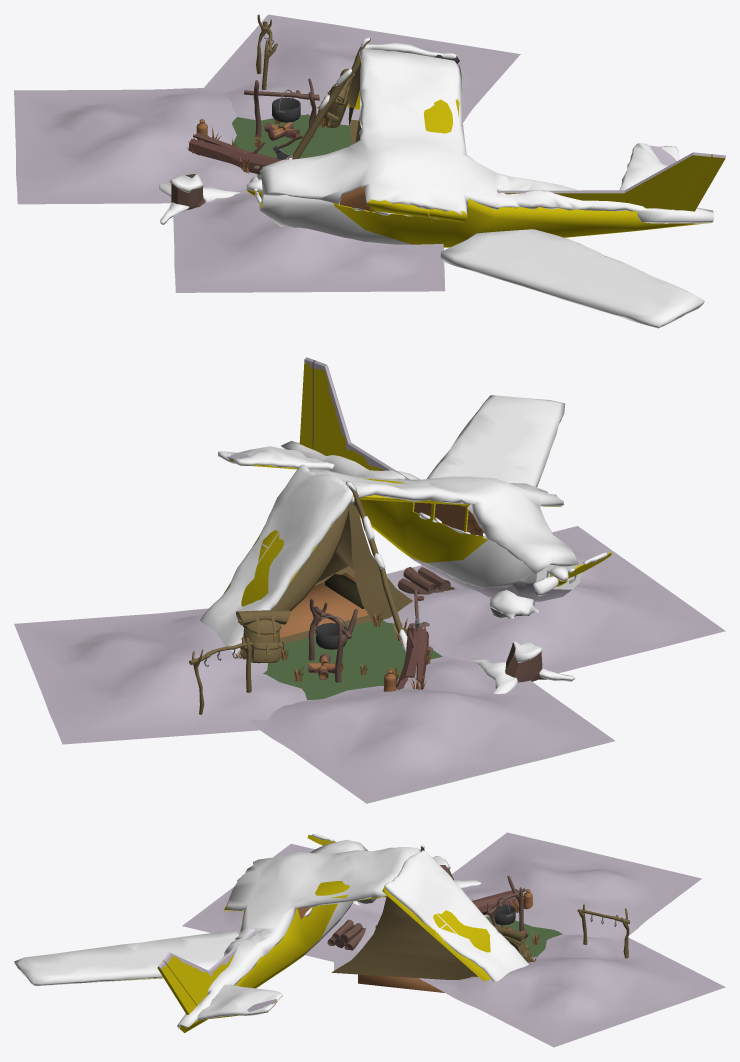
The model's file is new main scene.fbx.
The picture shows the model from 3 angles, top to bottom: view 1: azimuth 30°, elevation 25°; view 2: azimuth 150°, elevation 25°; view 3: azimuth 270°, elevation 25°; orthographic projection. The views are drawn at different scales.
Visible parts, largest first — view 1: LowPoly Tree .003; view 2: LowPoly Tree .003; view 3: LowPoly Tree .003.
Boxes of the visible parts, x1,y1,x2,y2 form: LowPoly Tree .003: (14, 14, 725, 328); LowPoly Tree .003: (14, 357, 725, 803); LowPoly Tree .003: (14, 832, 725, 1047).
Bounding box in the file's own units: 2327 × 614 × 3255.
